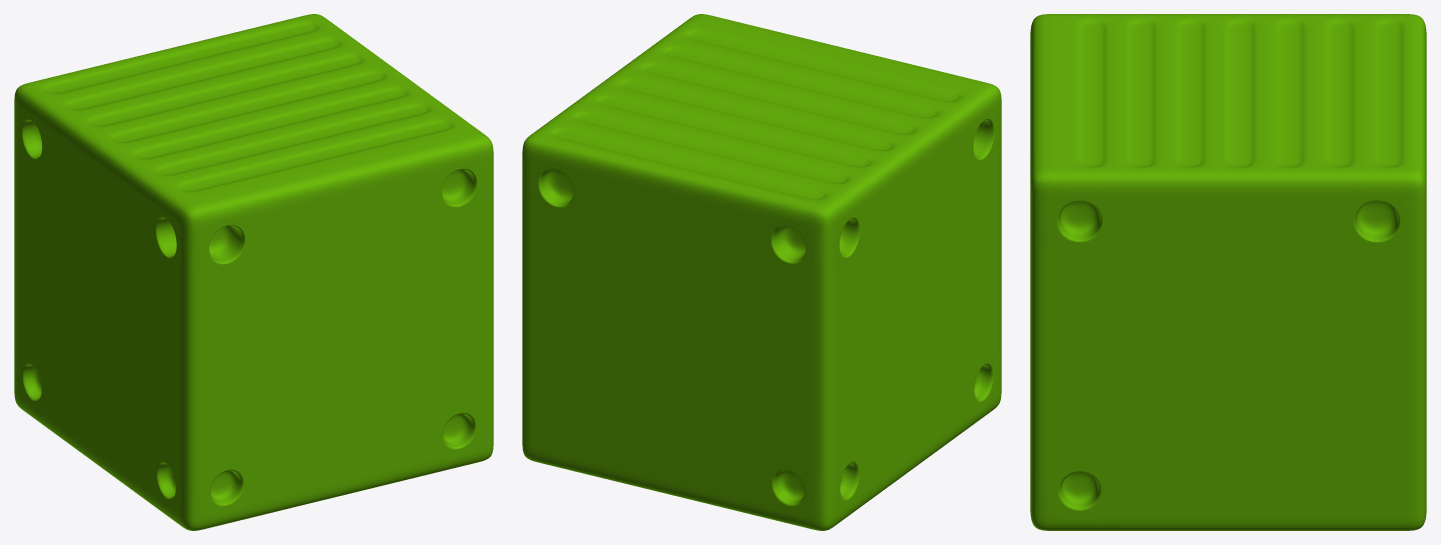
3 renders of one model, left to right at view 1: azimuth 30°, elevation 25°; view 2: azimuth 150°, elevation 25°; view 3: azimuth 270°, elevation 25°, orthographic. The views are drawn at different scales.
Visible parts, largest first — view 1: Cube 2; view 2: Cube 2; view 3: Cube 2.
Part boxes in pixels (left/top/right/bottom): Cube 2: left=14, top=14, right=493, bottom=530; Cube 2: left=522, top=14, right=1001, bottom=530; Cube 2: left=1030, top=14, right=1426, bottom=530.
Size of the model in its own units: 400 by 400 by 400.
